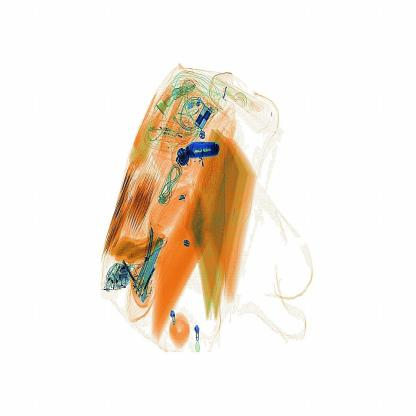scissors: (181, 132, 225, 167)
